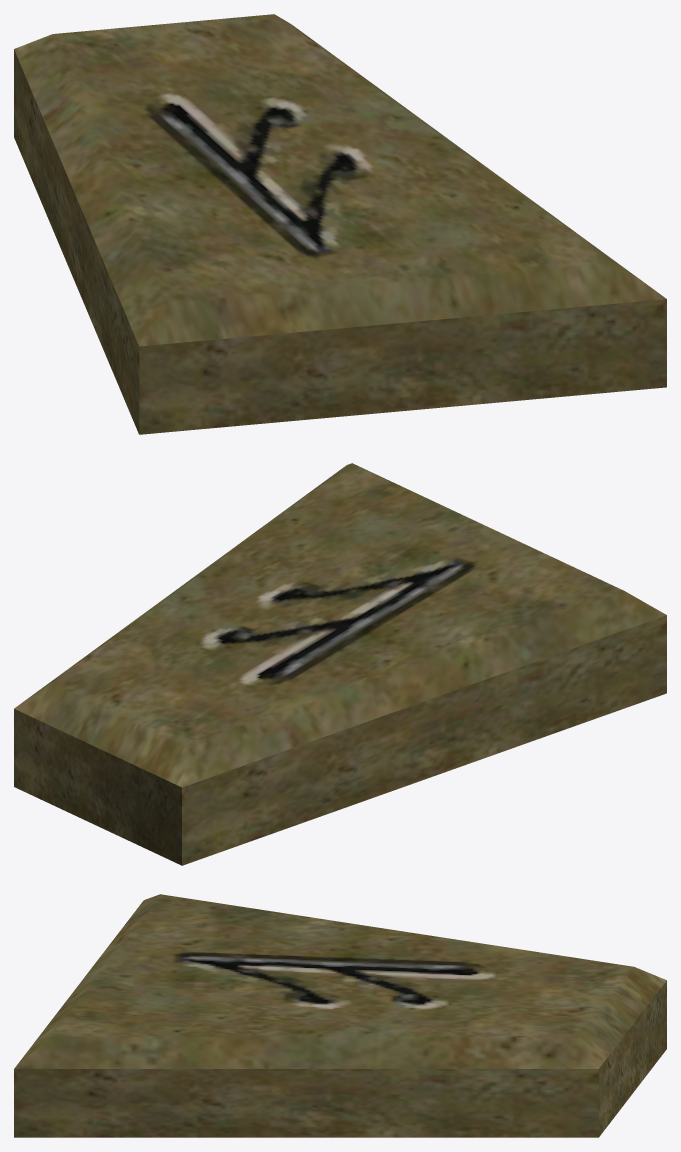
File: INST_SM_RUNEC.fbx
3 renders of one model, top to bottom at view 1: azimuth 30°, elevation 25°; view 2: azimuth 150°, elevation 25°; view 3: azimuth 270°, elevation 25°, orthographic. The views are drawn at different scales.
Parts seen in each view (by area): view 1: INST_SM_RUNEC; view 2: INST_SM_RUNEC; view 3: INST_SM_RUNEC.
Part boxes in pixels (box(x1,y1,x2,y2)): INST_SM_RUNEC: box(14, 14, 666, 434); INST_SM_RUNEC: box(14, 463, 666, 865); INST_SM_RUNEC: box(14, 894, 666, 1137).
Bounding box in the file's own units: 5640 × 1386 × 9220.
Materials: 1 (1 with a texture image).
